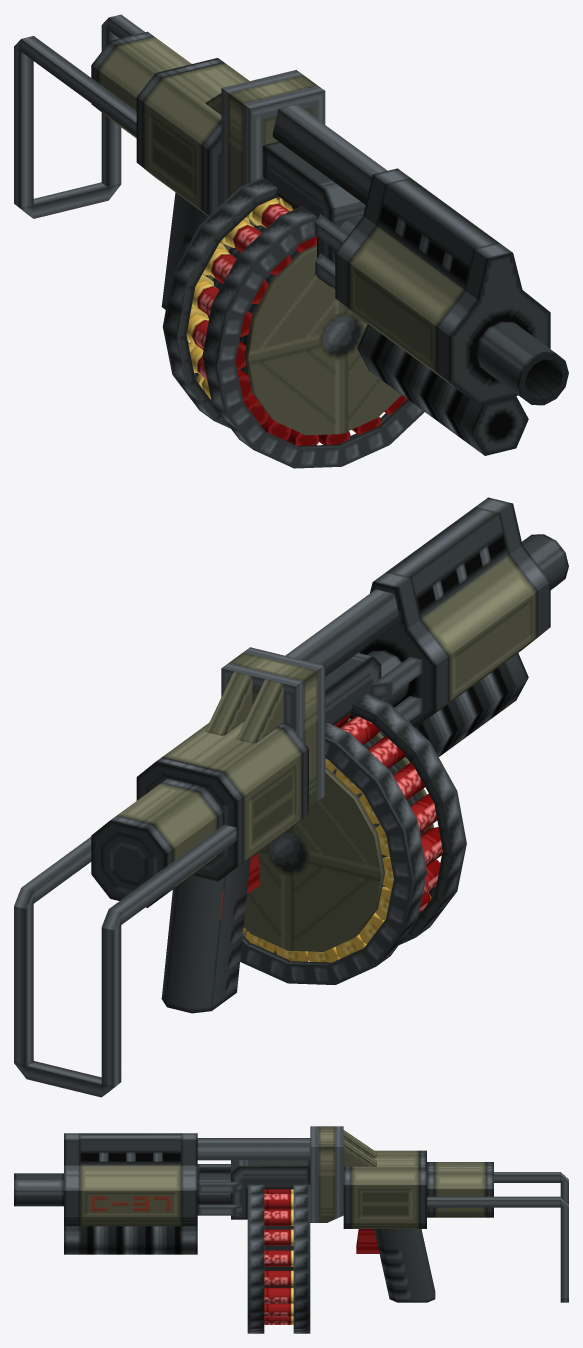
The model's file is shredder.obj.
The picture shows the model from 3 angles, top to bottom: view 1: azimuth 30°, elevation 25°; view 2: azimuth 150°, elevation 25°; view 3: azimuth 270°, elevation 25°; orthographic projection. The views are drawn at different scales.
Visible parts, largest first — view 1: Gun, Magazine, Shells; view 2: Gun, Magazine, Shells; view 3: Gun, Magazine, Shells.
Part boxes in pixels (x1,y1,x2,y2): Gun: [14, 14, 568, 455]; Magazine: [162, 177, 424, 468]; Shells: [186, 196, 407, 445]; Gun: [14, 497, 568, 1097]; Magazine: [240, 693, 466, 984]; Shells: [243, 713, 442, 962]; Gun: [14, 1126, 568, 1302]; Magazine: [247, 1184, 310, 1333]; Shells: [264, 1189, 293, 1324].
Bounding box in the file's own units: 5 × 6.25 × 16.62.
